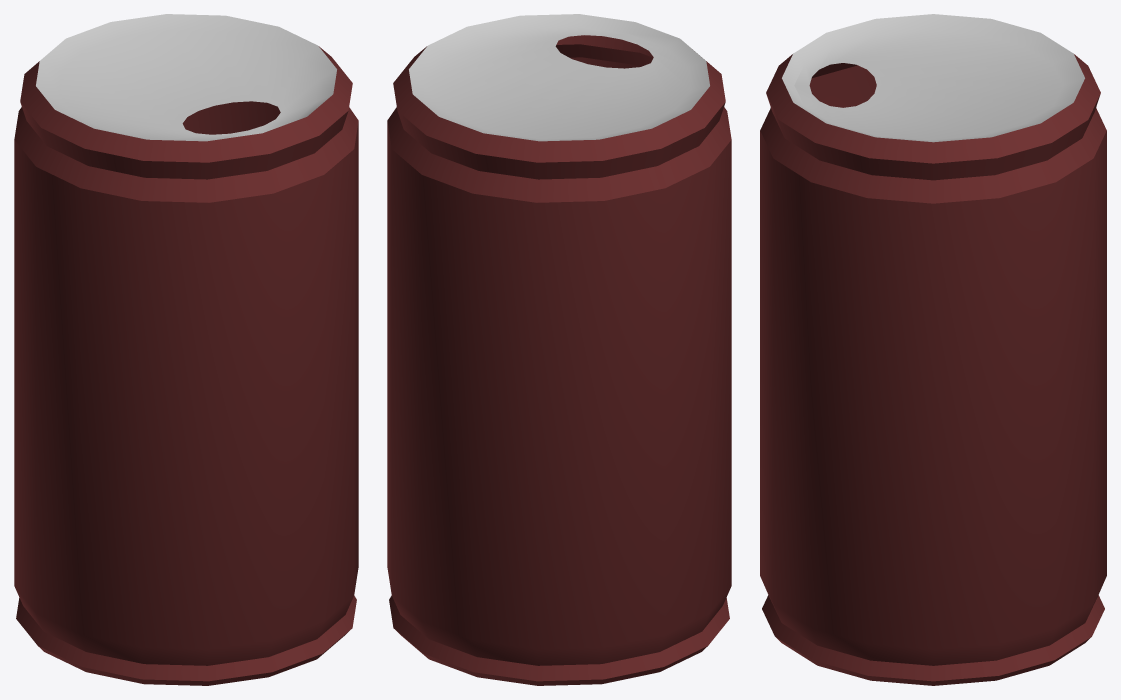
Rendered from LataBebida_04.fbx.
The picture shows the model from 3 angles, left to right: view 1: azimuth 30°, elevation 25°; view 2: azimuth 150°, elevation 25°; view 3: azimuth 270°, elevation 25°; orthographic projection.
Parts seen in each view (by area): view 1: LataBebida_04; view 2: LataBebida_04; view 3: LataBebida_04.
Boxes of the visible parts, bbox=[...] form: LataBebida_04: bbox=[14, 14, 358, 685]; LataBebida_04: bbox=[387, 14, 731, 685]; LataBebida_04: bbox=[760, 14, 1106, 685].
Bounding box in the file's own units: 26.06 × 44.66 × 26.06.
